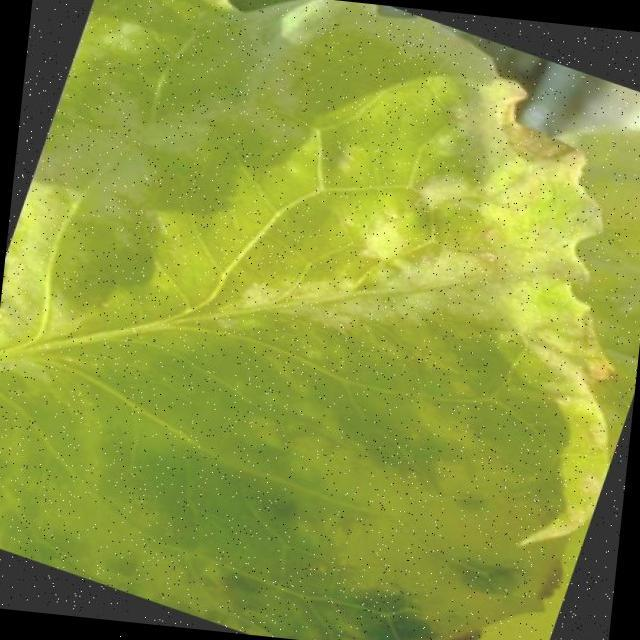Lettuce Mosaic Virus: (0, 22, 605, 640)
